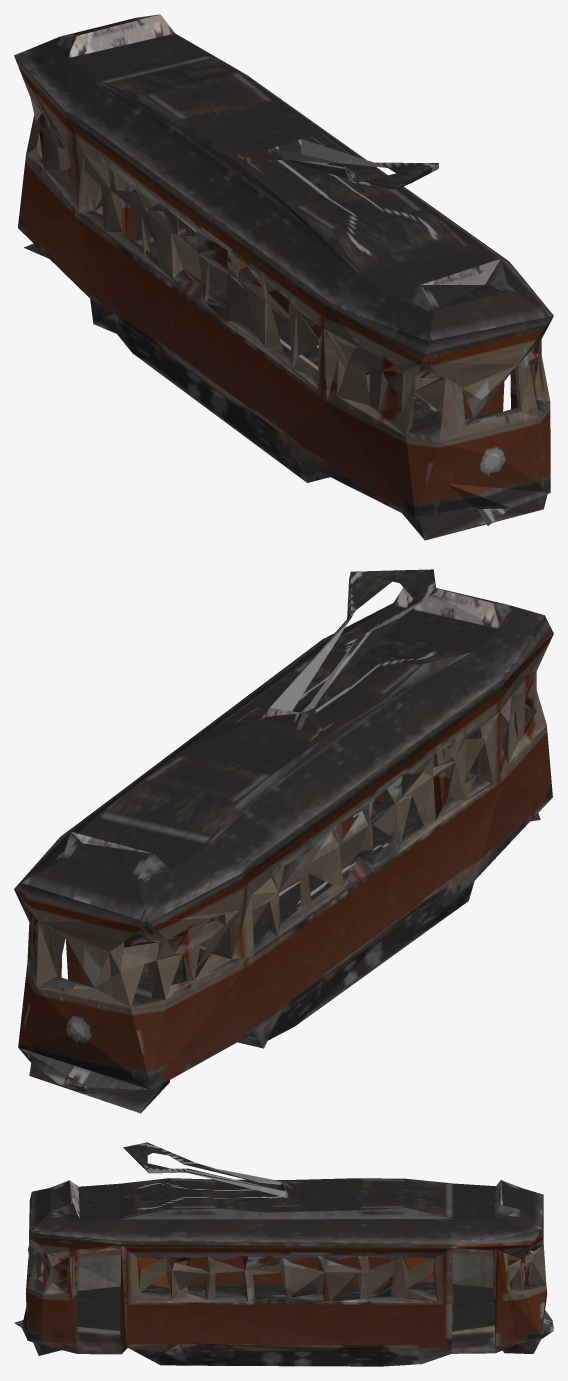
The picture shows the model from 3 angles, top to bottom: view 1: azimuth 30°, elevation 25°; view 2: azimuth 150°, elevation 25°; view 3: azimuth 270°, elevation 25°; orthographic projection. The views are drawn at different scales.
Size of the model in its own units: 2.53 by 4.06 by 10.31.
1 material, 1 textured.
